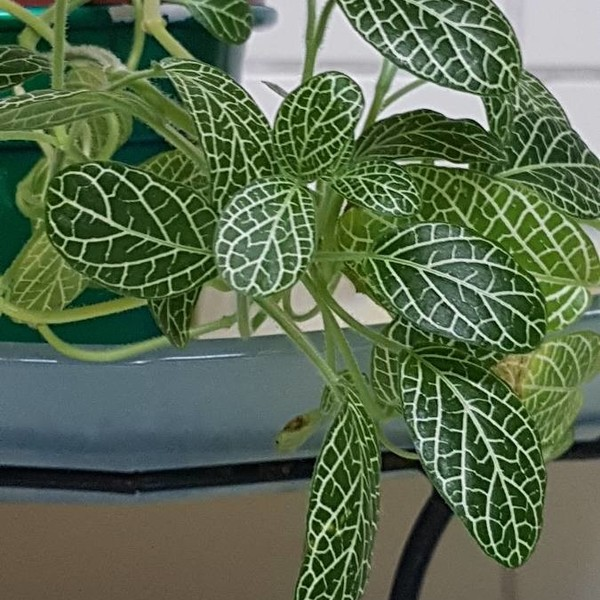obstacle: (43, 33, 579, 568)
